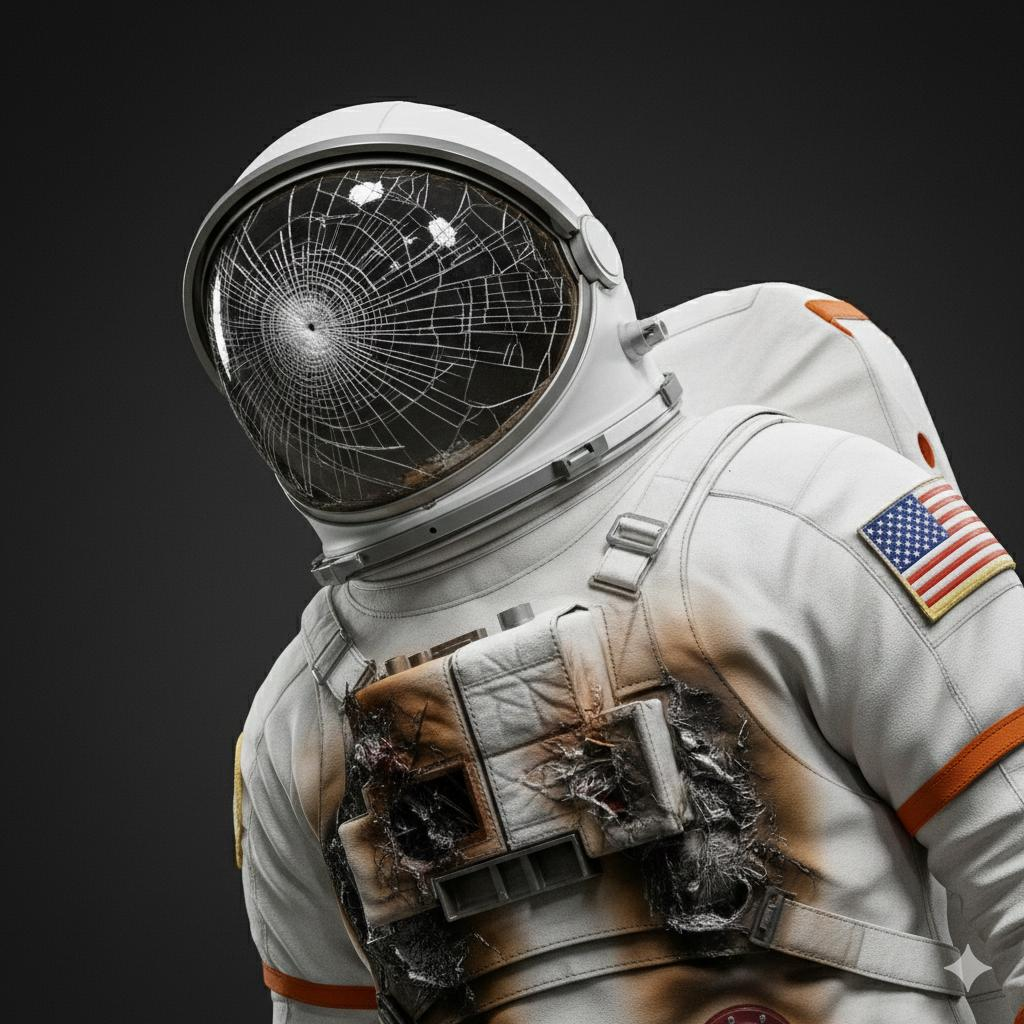burn: (283, 671, 856, 1017)
crack: (194, 148, 592, 520)
